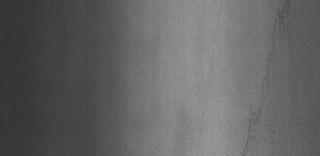water spot: (240, 2, 304, 154)
